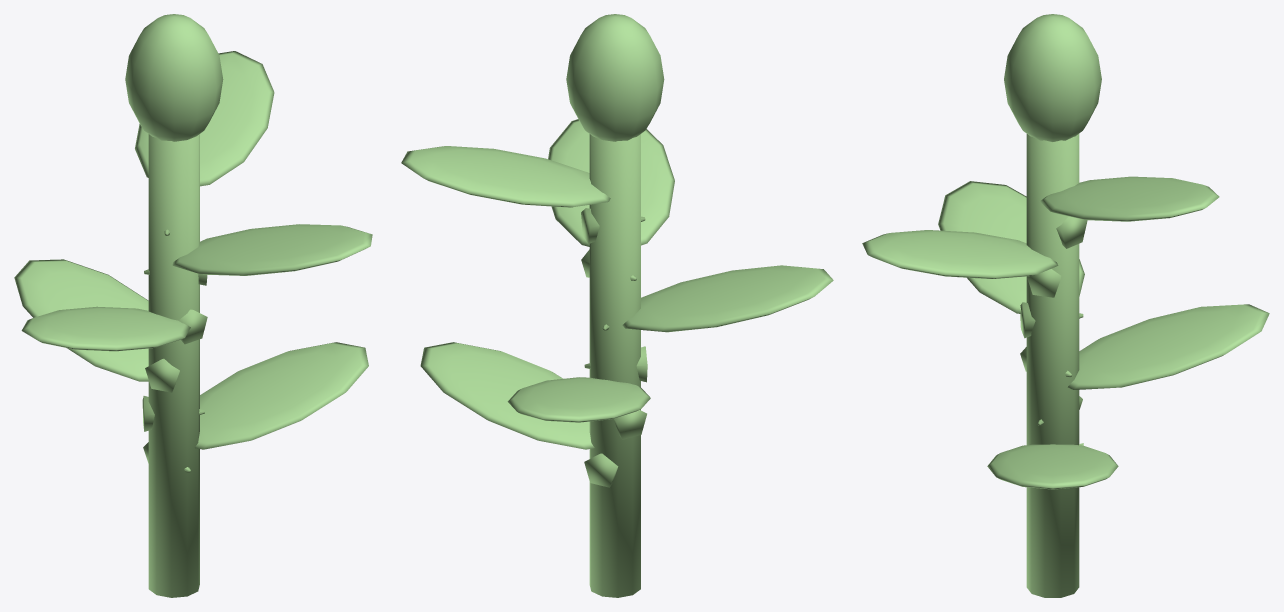
Rendered from VCrop_Rose_3.fbx.
3 renders of one model, left to right at view 1: azimuth 30°, elevation 25°; view 2: azimuth 150°, elevation 25°; view 3: azimuth 270°, elevation 25°, orthographic.
Parts seen in each view (by area): view 1: VCrop_Rose_3; view 2: VCrop_Rose_3; view 3: VCrop_Rose_3.
Part boxes in pixels (<box>): VCrop_Rose_3: <box>14,14,372,597</box>; VCrop_Rose_3: <box>401,14,833,597</box>; VCrop_Rose_3: <box>862,14,1269,597</box>.
Bounding box in the file's own units: 0.2431 × 0.3592 × 0.2327.
